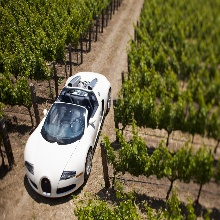no damage: (23, 71, 111, 199)
